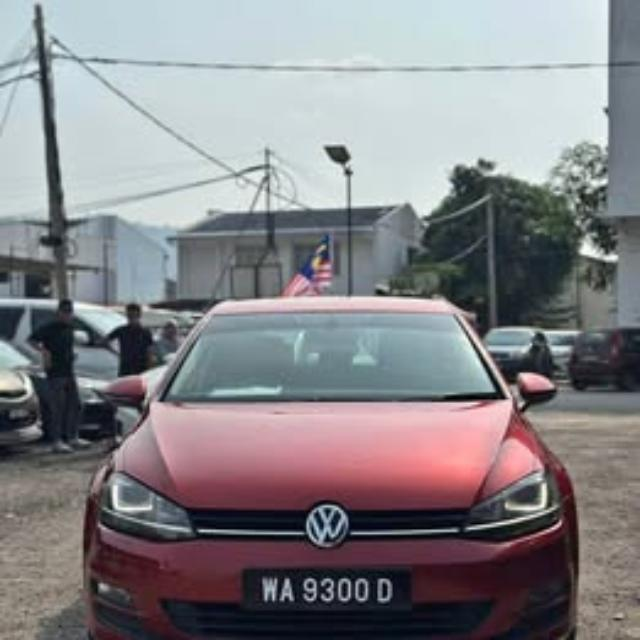License_Plate: (239, 563, 413, 614)
car: (82, 294, 582, 639)
